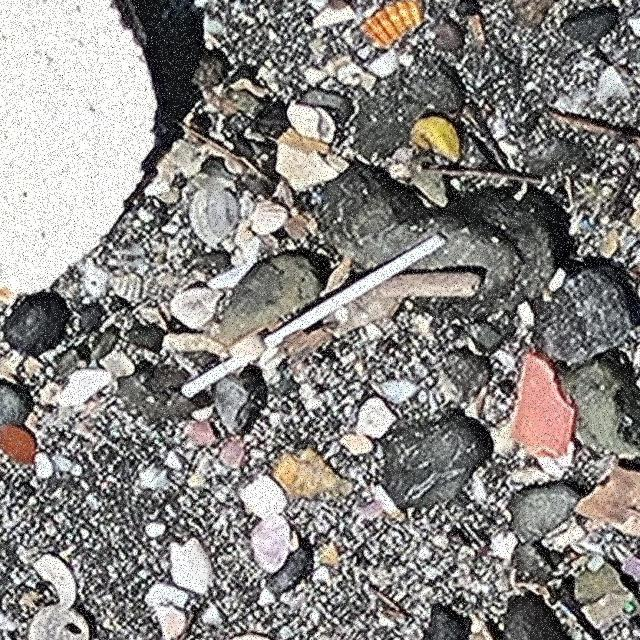plastic_waste: (181, 234, 450, 402)
